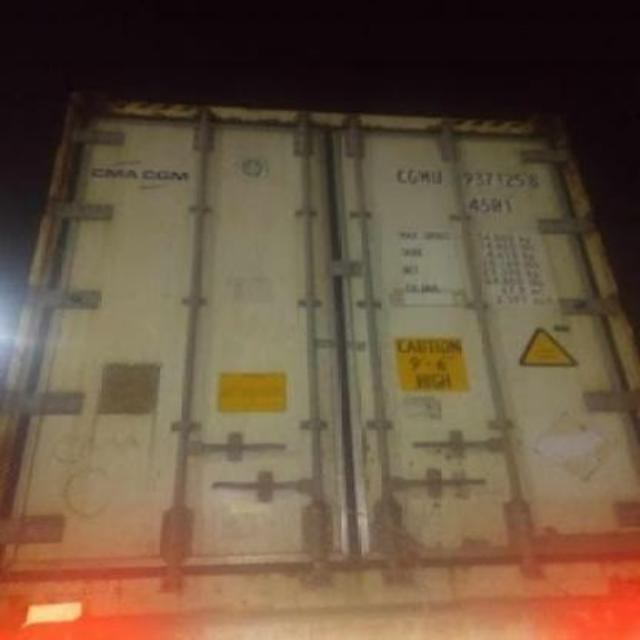1: (496, 172, 504, 188)
2: (504, 172, 514, 188)
3: (474, 171, 484, 187)
5: (514, 172, 526, 190)
7: (484, 170, 494, 188)
8: (526, 171, 542, 189)
9: (460, 170, 472, 188)
C: (396, 166, 406, 184)
G: (406, 168, 418, 186)
M: (419, 168, 429, 186)
U: (431, 170, 441, 186)
